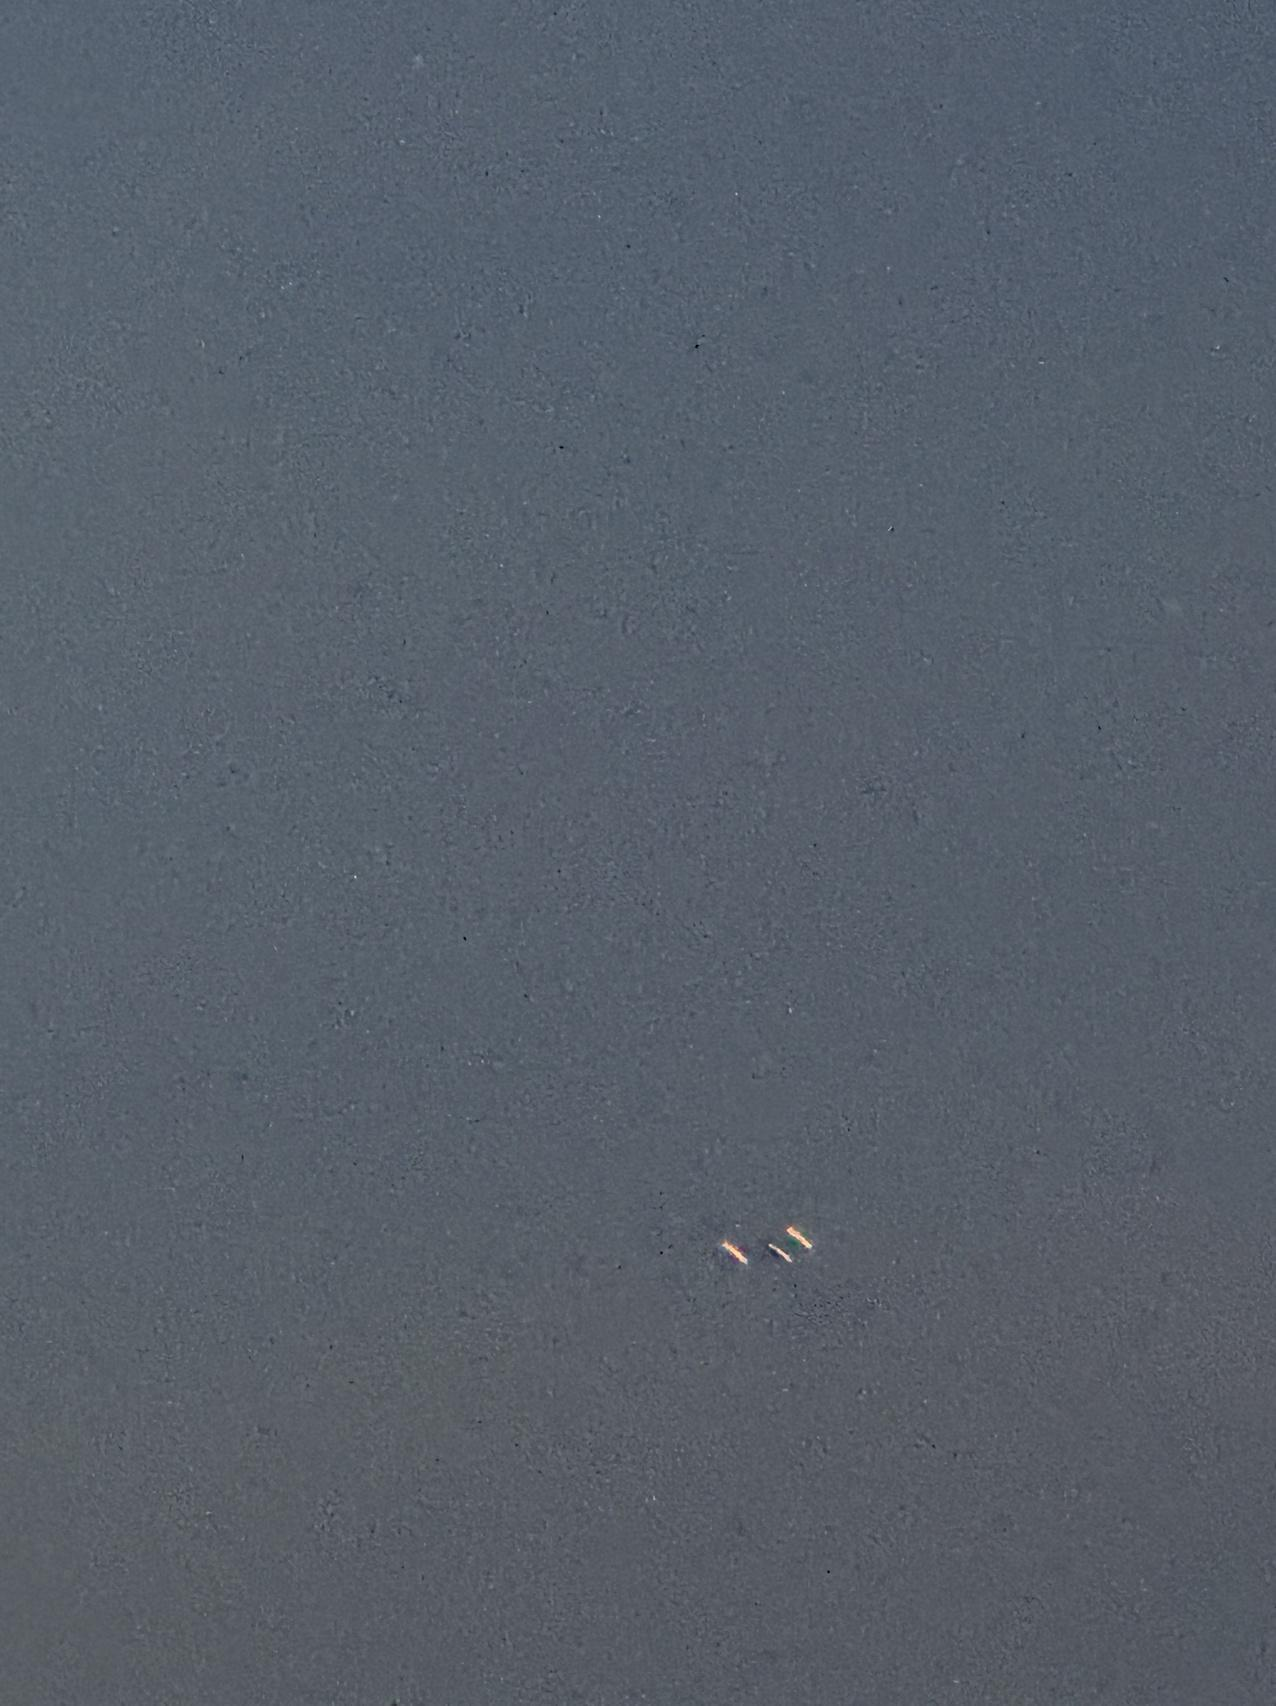Plane: (686, 1207, 843, 1283)
